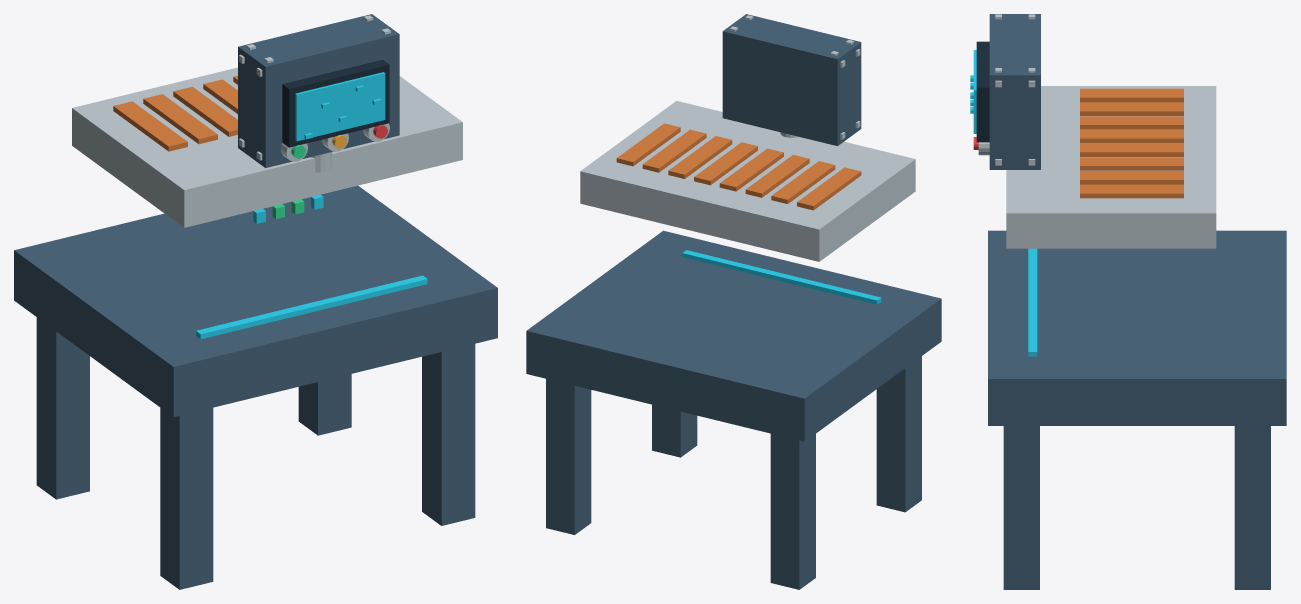
The model's file is 10_L78_InterconnectSurfaceConditionScanner.fbx.
3 renders of one model, left to right at view 1: azimuth 30°, elevation 25°; view 2: azimuth 150°, elevation 25°; view 3: azimuth 270°, elevation 25°, orthographic. The views are drawn at different scales.
Parts seen in each view (by area): view 1: InterconnectSurfaceConditionScanner; view 2: InterconnectSurfaceConditionScanner; view 3: InterconnectSurfaceConditionScanner.
Part boxes in pixels (x1,y1,x2,y2): InterconnectSurfaceConditionScanner: (14,14,497,589); InterconnectSurfaceConditionScanner: (526,14,941,589); InterconnectSurfaceConditionScanner: (970,14,1286,589).
Bounding box in the file's own units: 135 × 204 × 122.
